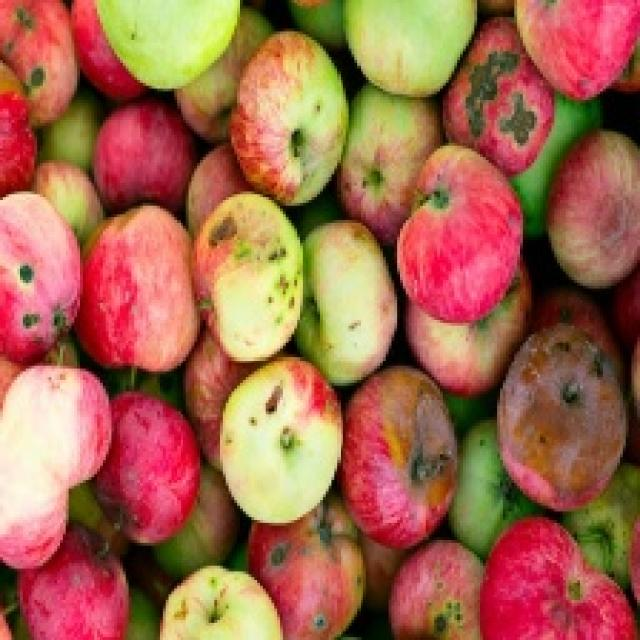rotten_apple: (503, 326, 622, 504), (353, 372, 458, 542), (197, 197, 298, 360), (270, 511, 362, 637), (460, 24, 546, 158), (0, 0, 78, 122), (396, 540, 483, 640), (160, 566, 270, 640)
